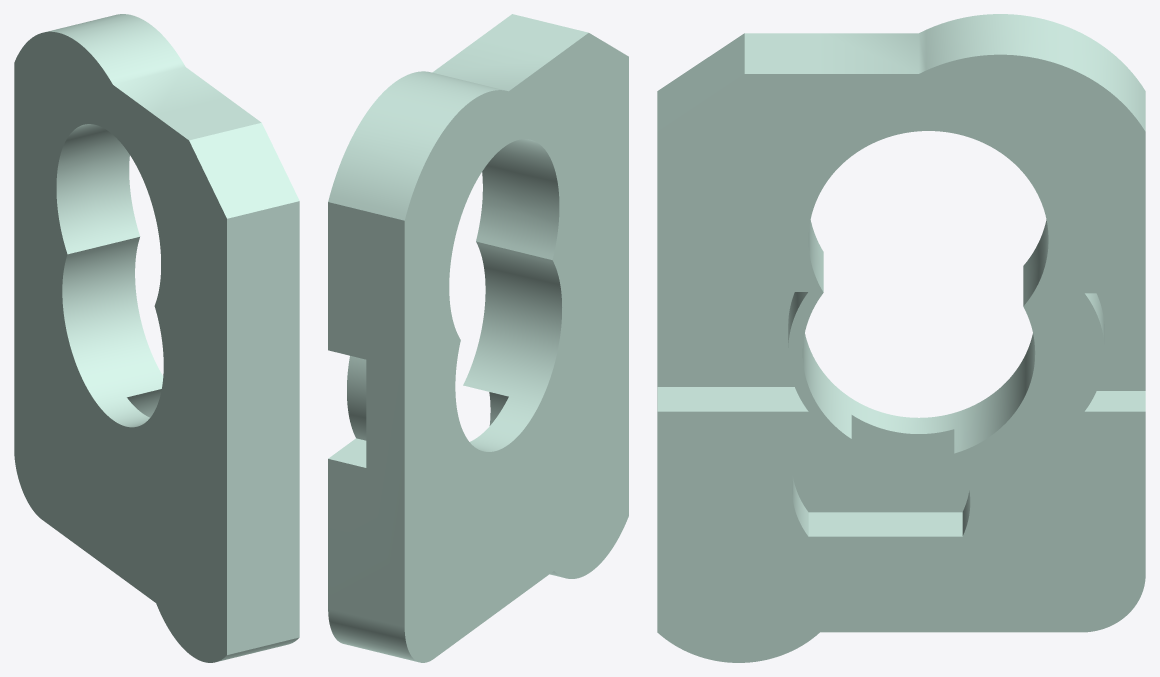
3 views of the same model, side by side, from view 1: azimuth 30°, elevation 25°; view 2: azimuth 150°, elevation 25°; view 3: azimuth 270°, elevation 25° (orthographic). The views are drawn at different scales.
Parts seen in each view (by area): view 1: Renderer Node; view 2: Renderer Node; view 3: Renderer Node.
Boxes of the visible parts, x1,y1,x2,y2 form: Renderer Node: [14, 14, 299, 662]; Renderer Node: [328, 14, 628, 662]; Renderer Node: [657, 14, 1145, 662].
Bounding box in the file's own units: 0.2344 × 1.63 × 1.19.
